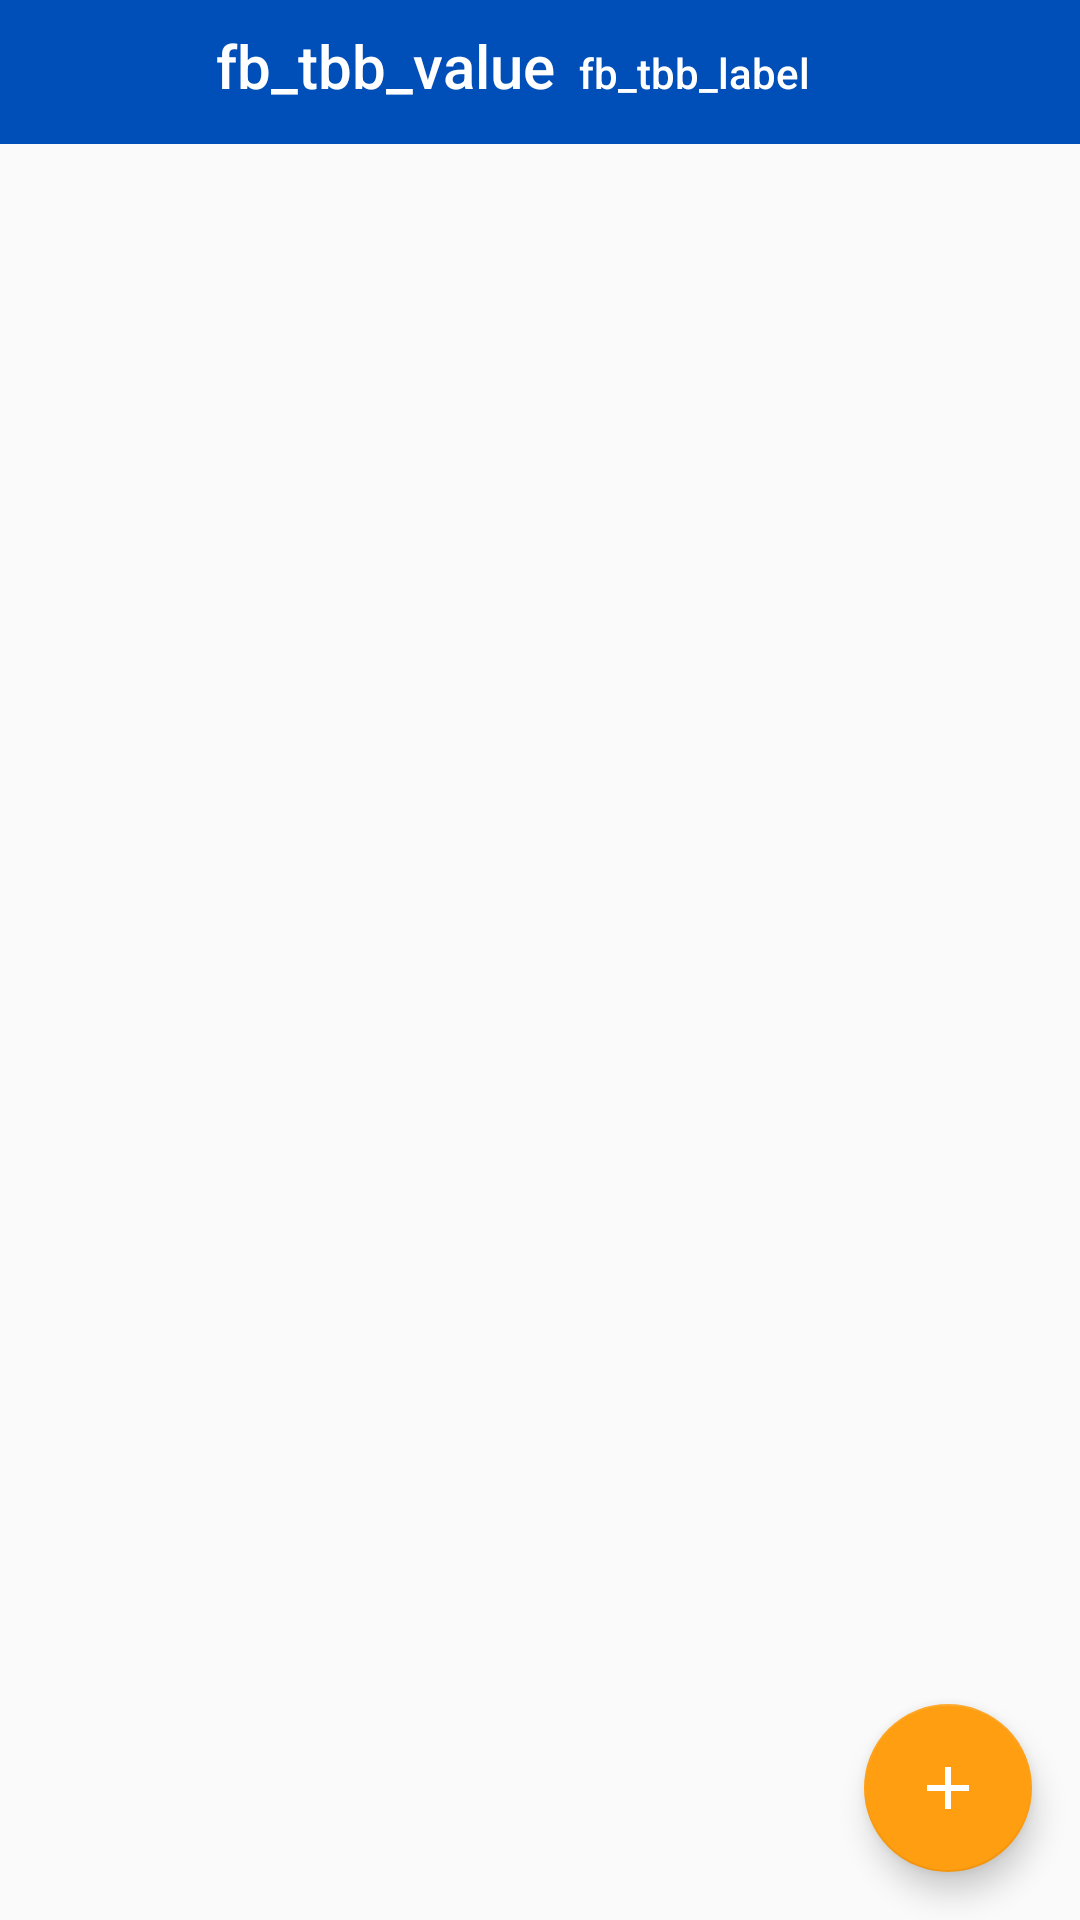

Point at icon controls on the screen. Image size 1080×1920, points as point (x, y).
fab: point (948, 1788)
